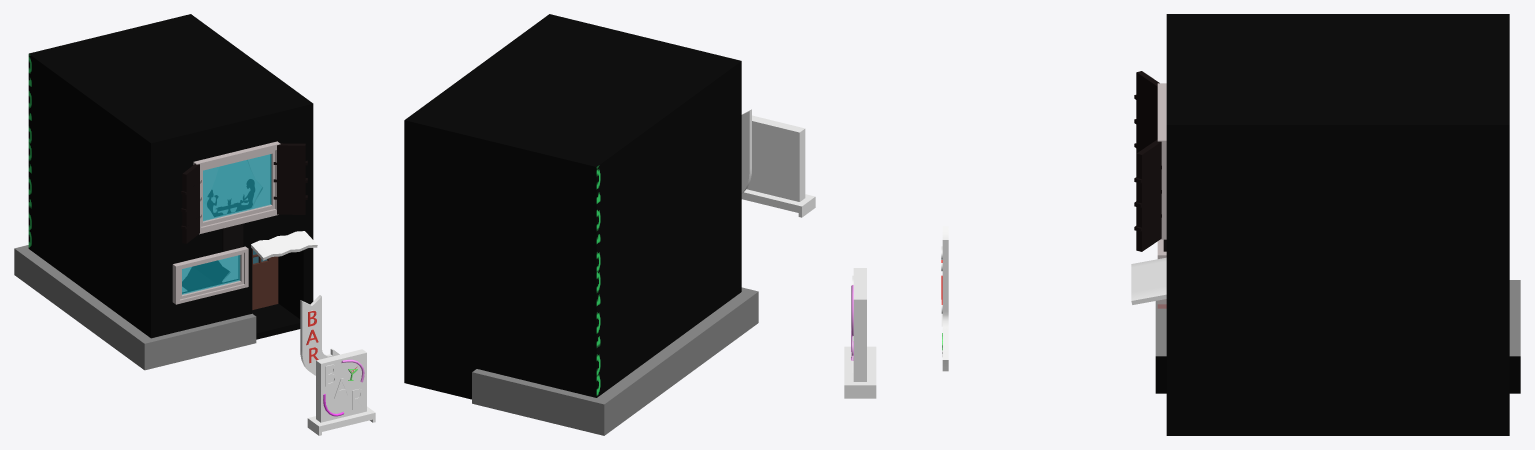
The model's file is Bar.fbx.
3 views of the same model, side by side, from view 1: azimuth 30°, elevation 25°; view 2: azimuth 150°, elevation 25°; view 3: azimuth 270°, elevation 25° (orthographic). The views are drawn at different scales.
Parts seen in each view (by area): view 1: pCube10, pCube11, pCube28, pCube1, pCube14, pCube24, pCube25, pCube12, pCube3, pCube20, pCube15, pCube17 (+7 smaller); view 2: pCube10, pCube11, pCube1, pCube2, pCube3; view 3: pCube10, pCube14, pCube11, pCube15, pCube1, pCube16, pCube2, pCube12, pCube3.
Boxes of the visible parts, x1,y1,x2,y2 form: pCube10: (28, 14, 313, 339); pCube11: (14, 245, 256, 370); pCube28: (203, 154, 271, 221); pCube1: (316, 349, 366, 422); pCube14: (273, 143, 307, 214); pCube24: (204, 160, 261, 216); pCube25: (182, 255, 240, 294); pCube12: (193, 141, 280, 234); pCube3: (300, 295, 339, 375); pCube20: (252, 249, 278, 309); pCube15: (181, 164, 201, 243); pCube17: (172, 246, 248, 304); pCube10: (404, 14, 741, 399); pCube11: (472, 287, 758, 435); pCube1: (746, 115, 805, 201); pCube2: (741, 189, 815, 217); pCube3: (741, 109, 751, 193); pCube10: (1166, 14, 1509, 435); pCube14: (1134, 139, 1161, 251); pCube11: (1155, 280, 1520, 393); pCube15: (1134, 71, 1159, 153); pCube1: (853, 268, 866, 381); pCube16: (1131, 257, 1166, 304); pCube2: (844, 346, 876, 398); pCube12: (1157, 83, 1166, 239); pCube3: (942, 226, 948, 371).
Size of the model in its own units: 8.71 by 10.7 by 21.09.
